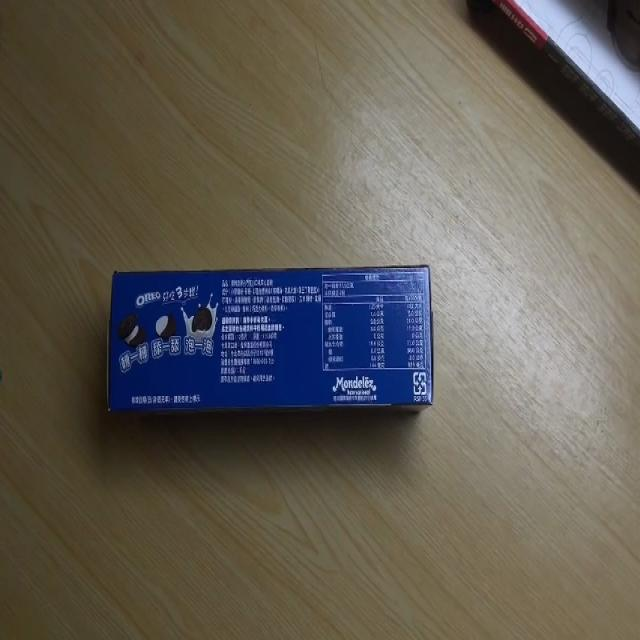Oreo: (110, 266, 434, 408)
